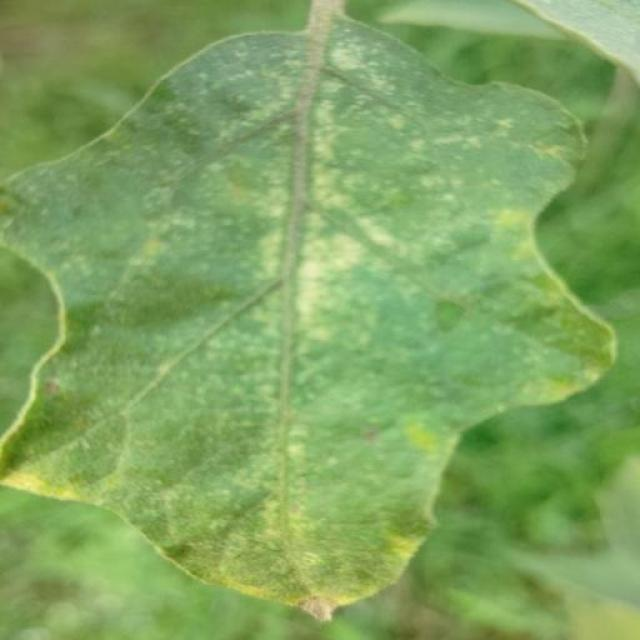leaf_spot: (124, 474, 450, 640), (180, 313, 388, 499), (480, 188, 628, 388), (211, 152, 336, 326), (0, 179, 79, 409), (274, 75, 355, 299), (2, 378, 98, 517), (377, 96, 466, 219), (490, 93, 585, 197), (150, 92, 248, 164), (189, 52, 313, 105), (302, 0, 376, 77), (114, 208, 186, 282), (384, 413, 447, 471), (142, 166, 192, 213)
